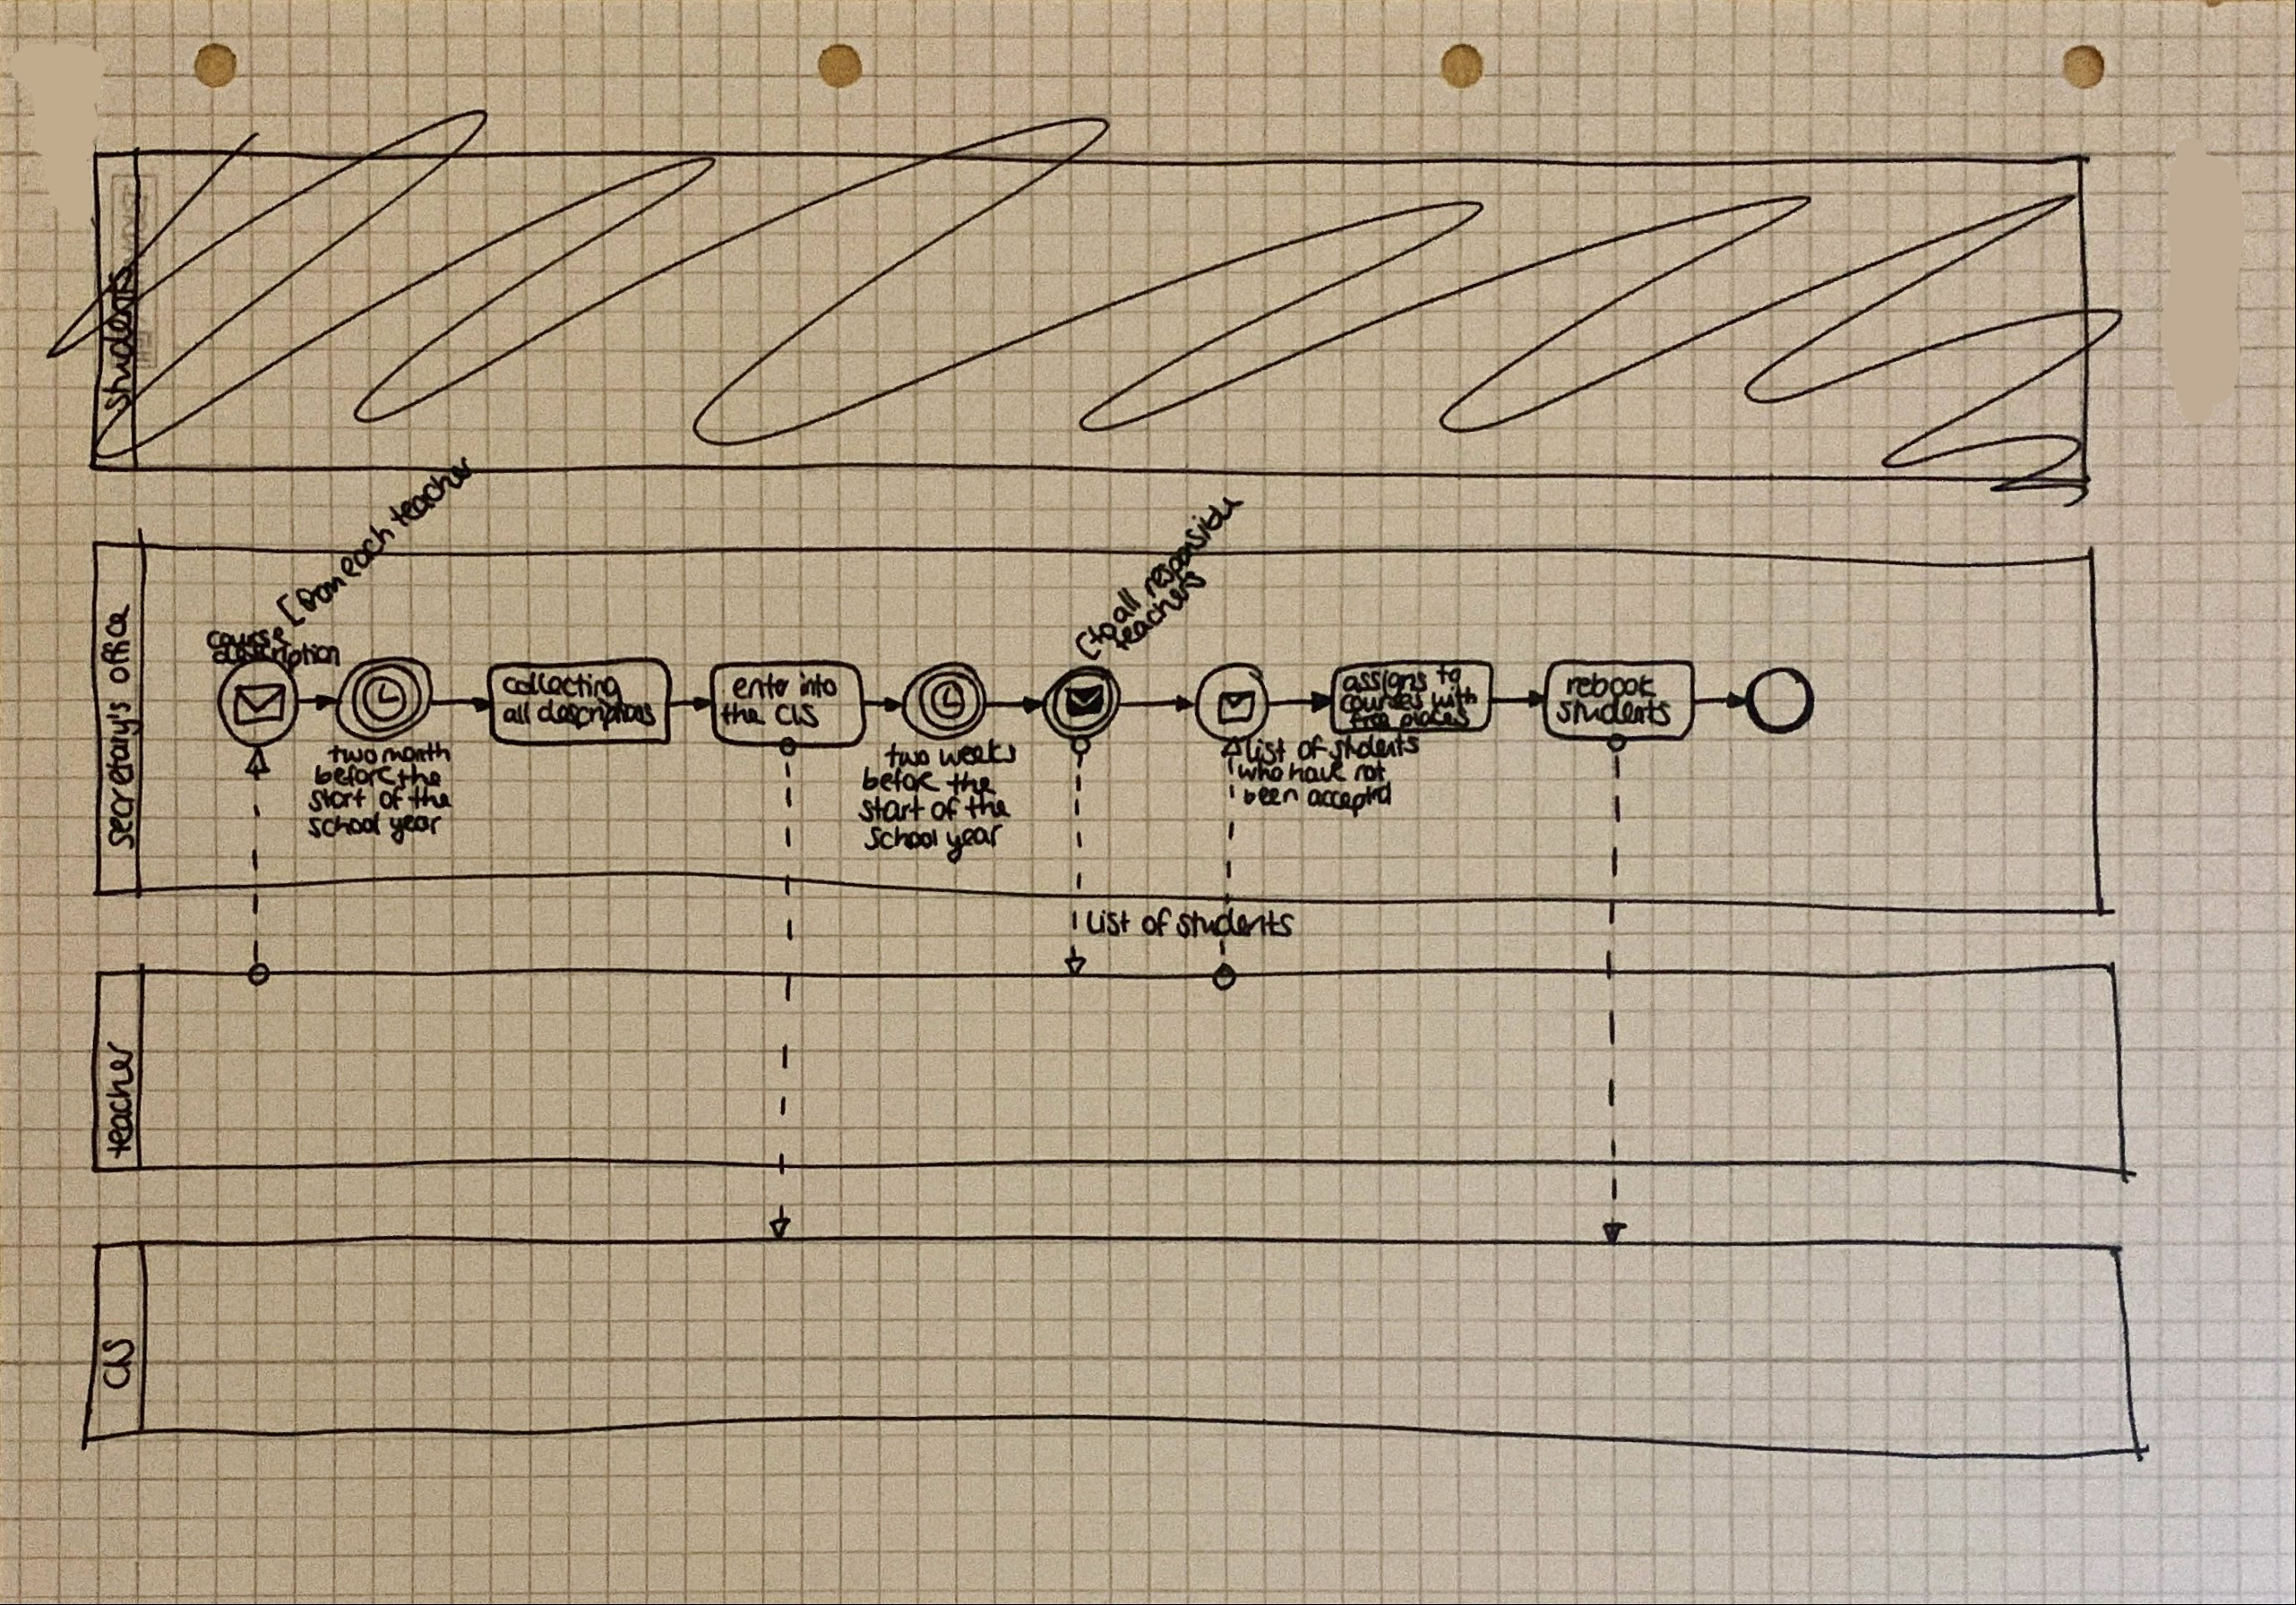CIS: (92, 1337, 142, 1391), (774, 700, 823, 730)
[from: (262, 588, 328, 640)
[to: (1061, 629, 1103, 672)
accepted: (1303, 784, 1393, 814)
all: (503, 698, 534, 729), (1102, 600, 1133, 632)
assigns: (1340, 666, 1430, 696)
been: (1240, 786, 1299, 809)
before: (317, 763, 391, 789), (863, 768, 939, 791)
collecting: (499, 669, 624, 703)
course: (200, 622, 294, 648)
courses: (1338, 692, 1426, 717)
description: (209, 642, 345, 671)
descriptions: (538, 699, 659, 729)
each: (329, 558, 397, 593)
enter: (731, 674, 793, 703)
free: (1345, 708, 1389, 730)
have: (1284, 760, 1346, 785)
into: (793, 670, 841, 703)
list: (1082, 908, 1131, 942), (1243, 737, 1290, 766)
month: (377, 742, 451, 764)
not: (1349, 759, 1389, 785)
of: (1141, 905, 1173, 943), (929, 794, 960, 825), (1294, 733, 1324, 763), (376, 787, 406, 811)
office: (99, 605, 133, 682)
places: (1391, 706, 1475, 732)
rebook: (1561, 673, 1661, 702)
responsible: (1131, 574, 1268, 607)
school: (864, 825, 943, 855), (306, 812, 384, 841)
secretary's: (99, 700, 145, 848)
start: (856, 794, 924, 826), (309, 787, 368, 812)
students: (1172, 905, 1299, 944), (1553, 697, 1675, 729), (1327, 729, 1421, 762)
teacher: (103, 1041, 138, 1161), (384, 511, 486, 542)
teachers: (1108, 642, 1225, 666)
the: (947, 771, 1003, 804), (961, 793, 1010, 820), (718, 702, 765, 730), (395, 764, 444, 789), (403, 786, 451, 811)
to: (1434, 664, 1463, 689)
two: (882, 744, 929, 773), (330, 743, 378, 765)
weeks: (938, 741, 1032, 767)
who: (1238, 758, 1286, 784)
with: (1427, 688, 1477, 712)
year: (942, 823, 1005, 864), (388, 811, 443, 844)
